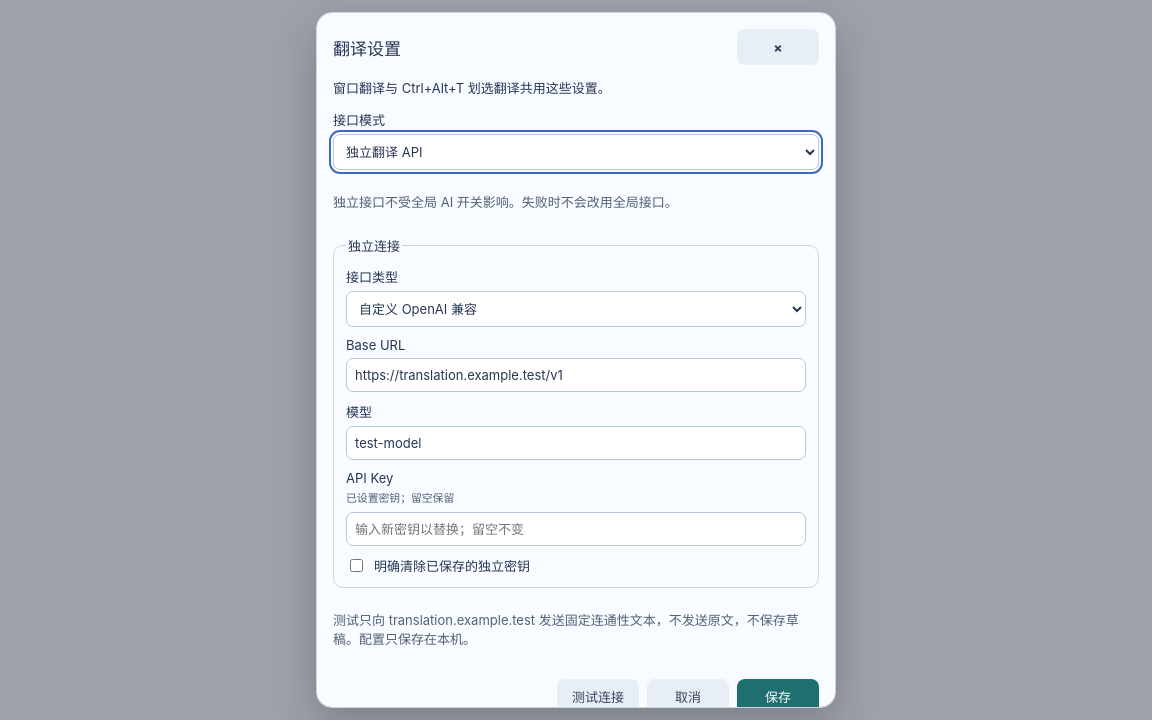
Scenario: TranslatorApiSettings › tests the replace draft without saving or exposing the stored key
Step 1. Type "replacement-placeholder" into the password field labelled "API Key 已设置密钥；留空保留" → (576, 529), box [346,512,806,546]
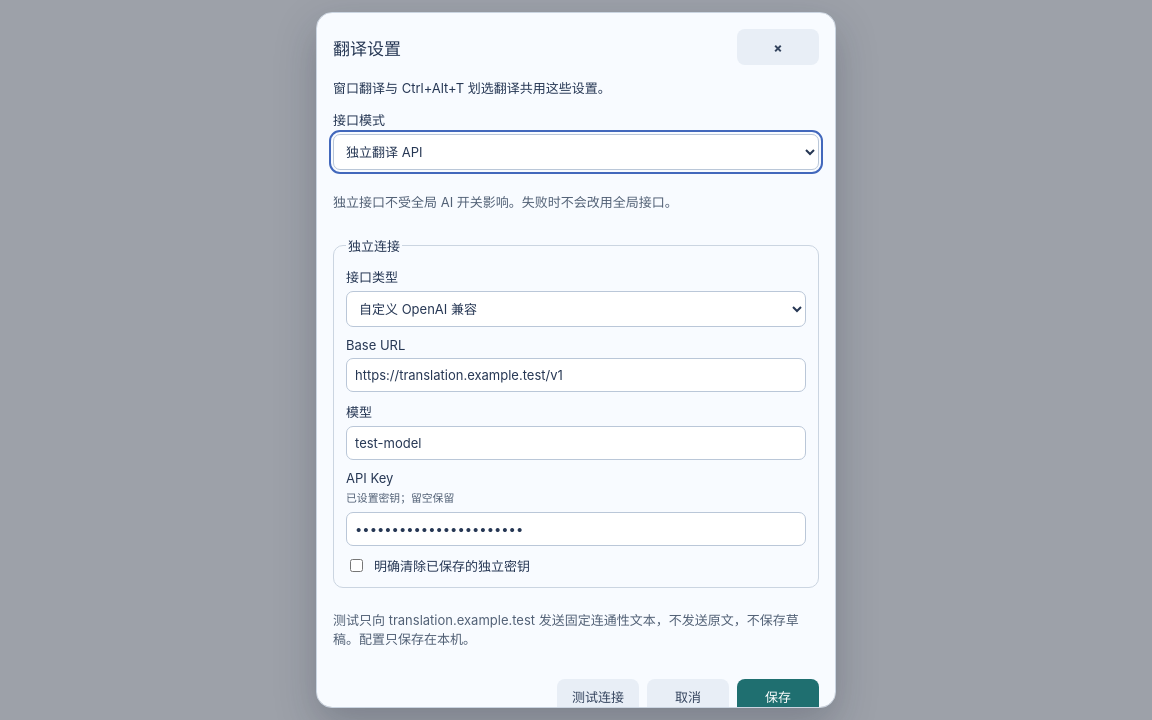
Step 2. Click the button "测试连接" → (598, 697), box [557,679,639,715]
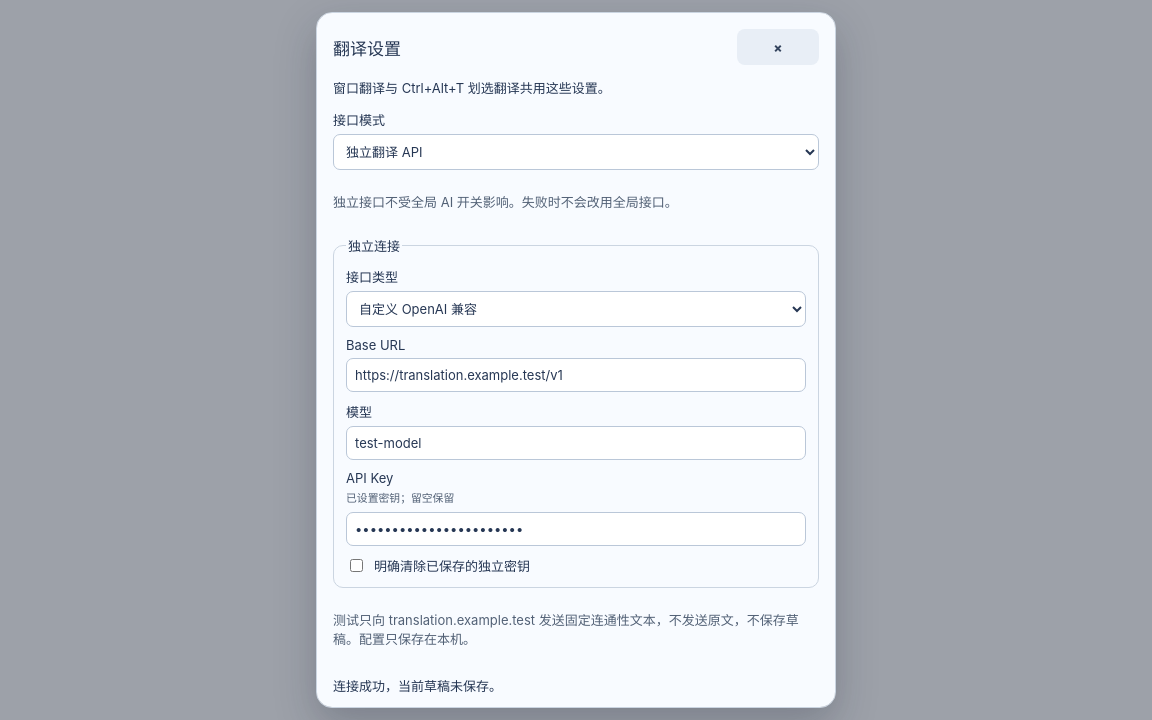
Expected: the text "当前草稿未保存" is shown, [333,678,502,694]
